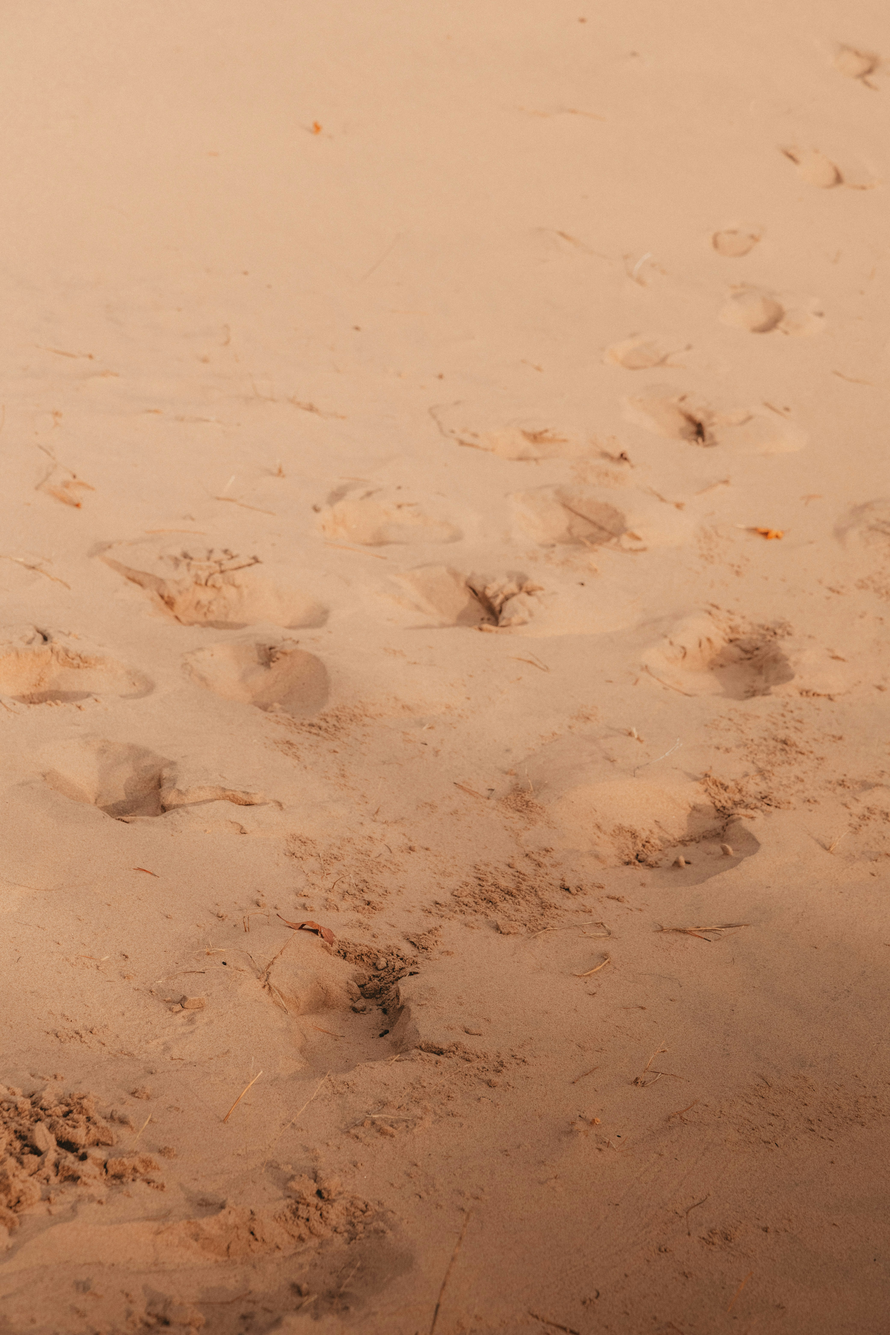animal_foot_print: (0, 1121, 413, 1335), (101, 539, 326, 629), (264, 929, 397, 1072), (550, 780, 733, 867), (645, 617, 797, 699), (0, 624, 153, 705), (184, 637, 329, 717), (266, 933, 365, 1045), (44, 739, 167, 818), (511, 486, 632, 547), (398, 566, 488, 626), (0, 569, 23, 624), (727, 828, 759, 865), (352, 998, 368, 1013)
